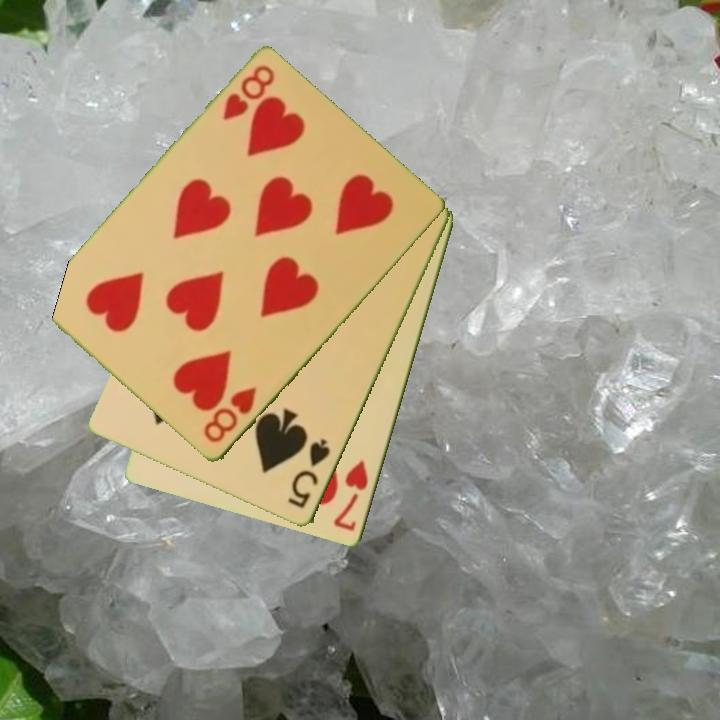5s: (284, 435, 334, 512)
7h: (330, 456, 372, 535)
8h: (200, 384, 260, 447), (219, 62, 278, 124)
